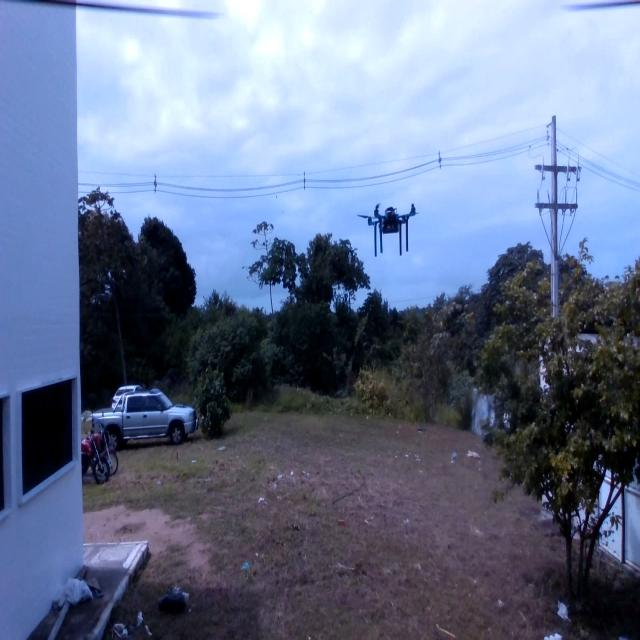-uav-: (348, 194, 427, 268)
